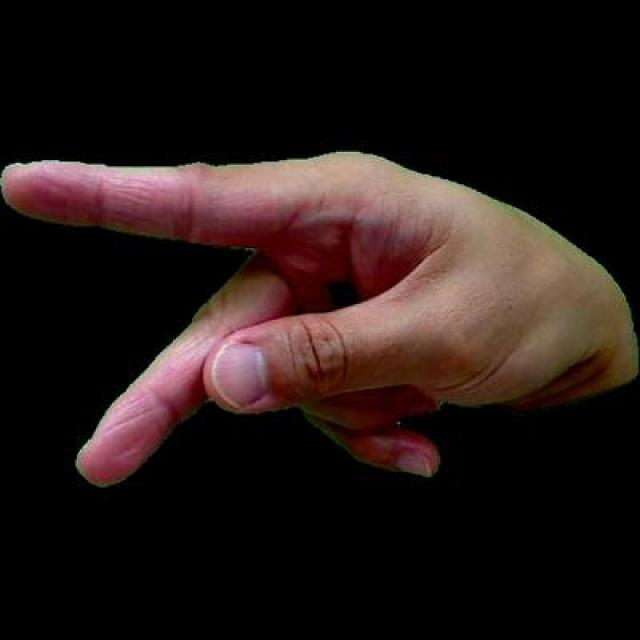p: (0, 125, 637, 496)
